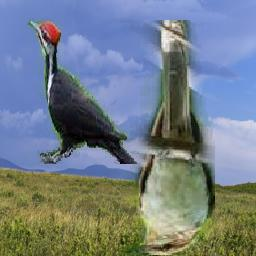Cuckoo: (121, 21, 216, 256)
Woodpecker: (27, 18, 139, 164)
